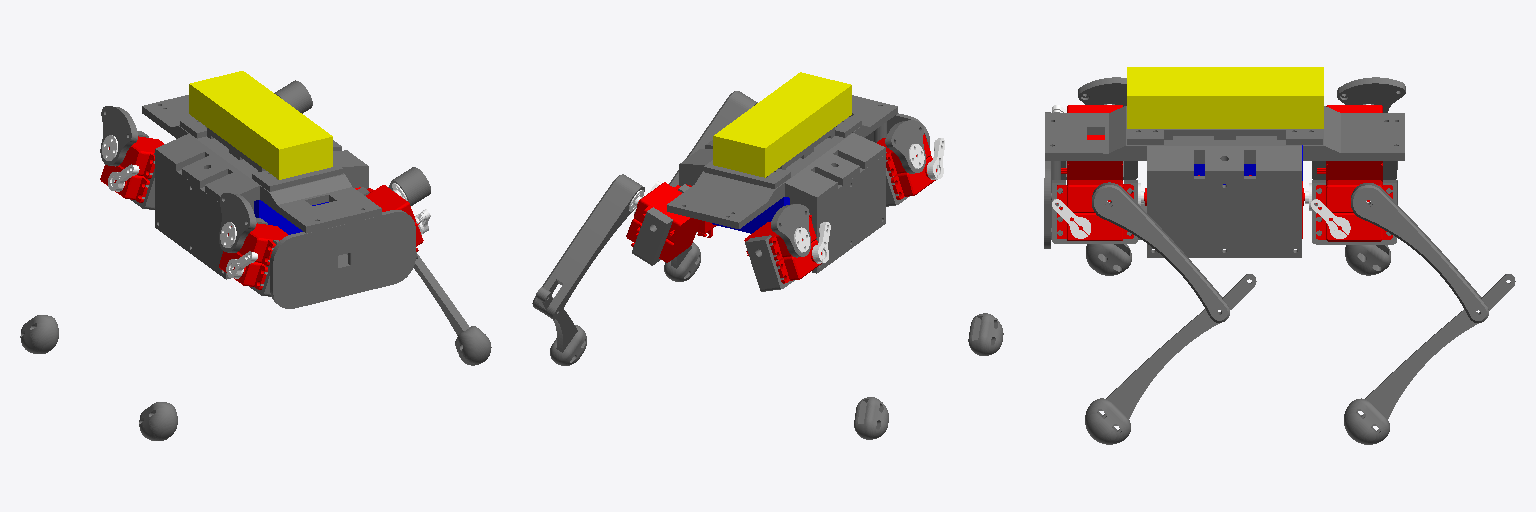
--- What the picture shows (computed from the rendered views, not written in the file) ---
The picture shows the robot from 3 angles, left to right: view 1: azimuth 30°, elevation 25°; view 2: azimuth 150°, elevation 25°; view 3: azimuth 270°, elevation 25°; orthographic projection.
Model robot_dog with 56 links and 55 joints (4 revolute, 16 continuous, 35 fixed), rooted at midsection-bottom, posed all joints at 0.
Visible links, largest first — view 1: front-face, battery, midsection-side-right, midsection-top, front-top, midsection-batteryplate, back-right-hip, front-right-hip, back-top, front-right-foot, back-right-foot, front-left-shin-shin (+9 smaller); view 2: battery, midsection-top, midsection-side-right, back-left-femur-femur, back-top, midsection-batteryplate, back-left-femur-servo, back-left-pelvis-pelvis, back-right-pelvis-pelvis, front-left-femur-femur, front-right-hip, back-right-hip (+11 smaller); view 3: battery, midsection-side-left, midsection-top, back-top, front-top, back-left-femur-femur, front-left-femur-femur, back-left-shin-shin, front-left-shin-shin, midsection-batteryplate, back-right-hip, front-left-foot (+17 smaller).
Boxes of the visible links, x1,y1,x2,y2 form: front-face: (270, 210, 415, 308); battery: (189, 71, 332, 179); midsection-side-right: (155, 156, 253, 279); midsection-top: (155, 133, 368, 202); front-top: (260, 173, 381, 233); midsection-batteryplate: (180, 117, 342, 191); back-right-hip: (100, 106, 137, 166); front-right-hip: (219, 193, 256, 252); back-top: (142, 95, 191, 138); front-right-foot: (139, 402, 177, 440); back-right-foot: (20, 315, 58, 353); front-left-shin-shin: (413, 252, 469, 335); battery: (713, 72, 851, 177); midsection-top: (679, 133, 885, 203); midsection-side-right: (790, 154, 885, 273); back-left-femur-femur: (532, 174, 644, 319); back-top: (667, 171, 784, 228); midsection-batteryplate: (704, 117, 861, 188); back-left-femur-servo: (634, 182, 700, 243); back-left-pelvis-pelvis: (632, 184, 689, 265); back-right-pelvis-pelvis: (745, 235, 794, 291); front-left-femur-femur: (669, 91, 757, 186); front-right-hip: (885, 120, 925, 173); back-right-hip: (771, 204, 810, 257); battery: (1127, 67, 1323, 128); midsection-side-left: (1147, 176, 1301, 257); midsection-top: (1147, 136, 1301, 178); back-top: (1303, 106, 1404, 160); front-top: (1045, 106, 1146, 160); back-left-femur-femur: (1351, 183, 1488, 322); front-left-femur-femur: (1092, 182, 1229, 322); back-left-shin-shin: (1356, 274, 1515, 432); front-left-shin-shin: (1097, 274, 1256, 432); midsection-batteryplate: (1127, 129, 1322, 144); back-right-hip: (1337, 77, 1405, 112); front-left-foot: (1085, 398, 1130, 444).
Bounding box of the posed robot: 0.3077 × 0.3326 × 0.216 m (x, y, z).
Meshes: 23 distinct files referenced, 47 mesh visuals loaded (17 Collada DAE); not drawn: 9 (reference not matched to a file when rendering).

robot.urdf — robot_dog:
<?xml version="1.0"?>
<robot name="robot_dog">


  <!--########## MIDSECTION OBJECTS ##########-->

  <!--##### midsection-bottom (base link) #####-->

  <link name="midsection-bottom">
    <visual>
      <geometry>
        <mesh filename="../meshes/midsection/ares_midsection-bottom_1.0.dae" scale="1 1 1"/>
      </geometry>

      <material name="Grey">
        <color rgba="0.5 0.5 0.5 1"/>
      </material>
    </visual>

    <collision>
      <geometry>
        <mesh filename="../meshes/midsection/ares_midsection-bottom_1.0.dae" scale="1 1 1"/>
      </geometry>
    </collision>

    <inertial>
      <mass value="0.01"/> <!-- Adjust mass if necessary -->
      <inertia ixx="0.001" ixy="0.0" ixz="0.0" iyy="0.001" iyz="0.0" izz="0.001"/>
      <origin xyz="0 0 0" rpy="0 0 0"/>
    </inertial>
  </link>

  <!--##### midsection-top #####-->

  <link name="midsection-top">
    <visual>
      <origin xyz="0 0 0" rpy="0 0 0"/>
      <geometry>
        <mesh filename="../meshes/midsection/athena_midsection-top_1.1.dae" scale="1 1 1"/>
      </geometry>

      <material name="Grey">
        <color rgba="0.5 0.5 0.5 1"/>
      </material>
    </visual>

    <collision>
      <origin xyz="0 0 0" rpy="0 0 0"/>
      <geometry>
        <mesh filename="../meshes/midsection/athena_midsection-top_1.1.dae" scale="1 1 1"/>
      </geometry>
    </collision>

    <inertial>
      <mass value="0.01"/>
      <inertia ixx="0.001" ixy="0.0" ixz="0.0" iyy="0.001" iyz="0.0" izz="0.001"/>
      <origin xyz="0 0 0" rpy="0 0 0"/>
    </inertial>
  </link>

  <!--##### midsection-connectorplate #####-->

  <link name="midsection-connectorplate">
    <visual>
      <origin xyz="0 0 0" rpy="0 0 0"/>
      <geometry>
        <mesh filename="../meshes/midsection/athena_midsection-connectorplate_1.2.dae" scale="1 1 1"/>
      </geometry>

      <material name="Grey">
        <color rgba="0.5 0.5 0.5 1"/>
      </material>
    </visual>

    <collision>
      <origin xyz="0 0 0" rpy="0 0 0"/>
      <geometry>
        <mesh filename="../meshes/midsection/athena_midsection-connectorplate_1.2.dae" scale="1 1 1"/>
      </geometry>
    </collision>

    <inertial>
      <mass value="0.01"/>
      <inertia ixx="0.001" ixy="0.0" ixz="0.0" iyy="0.001" iyz="0.0" izz="0.001"/>
      <origin xyz="0 0 0" rpy="0 0 0"/>
    </inertial>
  </link>

  <!--##### midsection-batteryplate #####-->

  <link name="midsection-batteryplate">
    <visual>
      <origin xyz="0 0 0" rpy="0 0 0"/>
      <geometry>
        <mesh filename="../meshes/midsection/ares_midsection-batteryplate_1.0.dae" scale="1 1 1"/>
      </geometry>

      <material name="Grey">
        <color rgba="0.5 0.5 0.5 1"/>
      </material>
    </visual>

    <collision>
      <origin xyz="0 0 0" rpy="0 0 0"/>
      <geometry>
        <mesh filename="../meshes/midsection/ares_midsection-batteryplate_1.0.dae" scale="1 1 1"/>
      </geometry>
    </collision>

    <inertial>
      <mass value="0.01"/>
      <inertia ixx="0.001" ixy="0.0" ixz="0.0" iyy="0.001" iyz="0.0" izz="0.001"/>
      <origin xyz="0 0 0" rpy="0 0 0"/>
    </inertial>
  </link>

  <!--##### midsection-side-left #####-->

  <link name="midsection-side-left">
    <visual>
      <origin xyz="0 0 0" rpy="0 0 0"/>
      <geometry>
        <mesh filename="../meshes/midsection/ares_midsection-side_1.0.dae" scale="1 1 1"/>
      </geometry>

      <material name="Grey">
        <color rgba="0.5 0.5 0.5 1"/>
      </material>
    </visual>

    <collision>
      <origin xyz="0 0 0" rpy="0 0 0"/>
      <geometry>
        <mesh filename="../meshes/midsection/ares_midsection-side_1.0.dae" scale="1 1 1"/>
      </geometry>
    </collision>

    <inertial>
      <mass value="0.01"/>
      <inertia ixx="0.001" ixy="0.0" ixz="0.0" iyy="0.001" iyz="0.0" izz="0.001"/>
      <origin xyz="0 0 0" rpy="0 0 0"/>
    </inertial>
  </link>

  <!--##### midsection-side-right #####-->

  <link name="midsection-side-right">
    <visual>
      <origin xyz="0 0 0" rpy="0 0 0"/>
      <geometry>
        <mesh filename="../meshes/midsection/ares_midsection-side_1.0.dae" scale="1 1 1"/>
      </geometry>

      <material name="Grey">
        <color rgba="0.5 0.5 0.5 1"/>
      </material>
    </visual>

    <collision>
      <origin xyz="0 0 0" rpy="0 0 0"/>
      <geometry>
        <mesh filename="../meshes/midsection/ares_midsection-side_1.0.dae" scale="1 1 1"/>
      </geometry>
    </collision>

    <inertial>
      <mass value="0.01"/>
      <inertia ixx="0.001" ixy="0.0" ixz="0.0" iyy="0.001" iyz="0.0" izz="0.001"/>
      <origin xyz="0 0 0" rpy="0 0 0"/>
    </inertial>
  </link>


  <!--########## MIDSECTION JOINTS ##########-->

  <!--##### midsection-bottom/top joint #####-->

  <joint name="midsection-bottom/top" type="fixed">
    <parent link="midsection-bottom"/>
    <child link="midsection-top"/>
    <origin xyz="0 0 0" rpy="0 0 0"/>
  </joint>

  <!--##### midsection-bottom/connectorplate joint #####-->

  <joint name="midsection-bottom/connectorplate" type="fixed">
    <parent link="midsection-bottom"/>
    <child link="midsection-connectorplate"/>
    <origin xyz="0.002 0.2 0.008" rpy="0 0 0"/>
  </joint>

  <!--##### midsection-top/batteryplate joint #####-->

  <joint name="midsection-top/batteryplate" type="fixed">
    <parent link="midsection-top"/>
    <child link="midsection-batteryplate"/>
    <origin xyz="-0.056 0.057 0.09855" rpy="0 0 0"/>
  </joint>

  <!--##### midsection-bottom/side-left joint #####-->

  <joint name="midsection-bottom/side-left" type="fixed">
    <parent link="midsection-bottom"/>
    <child link="midsection-side-left"/>
    <origin xyz="0 0 0" rpy="0 0 0"/>
  </joint>

  <!--##### midsection-bottom/side-right joint #####-->

  <joint name="midsection-bottom/side-right" type="fixed">
    <parent link="midsection-bottom"/>
    <child link="midsection-side-right"/>
    <origin xyz="-0.09705 0.1283 0" rpy="0 0 3.14"/>
  </joint>


  <!--########## FRONT OBJECTS ##########-->

  <!--##### front-face #####-->

  <link name="front-face">
    <visual>
      <origin xyz="0 0 0" rpy="0 0 0"/>
      <geometry>
          <mesh filename="../meshes/front/athena_front-face_1.1.dae" scale="1 1 1"/>
      </geometry>

      <material name="Grey">
          <color rgba="0.5 0.5 0.5 1"/>
      </material>
    </visual>

    <collision>
      <origin xyz="0 0 0" rpy="0 0 0"/>
      <geometry>
          <mesh filename="../meshes/front/athena_front-face_1.1.dae" scale="1 1 1"/>
      </geometry>
    </collision>

    <inertial>
      <mass value="0.01"/>
      <inertia ixx="0.001" ixy="0.0" ixz="0.0" iyy="0.001" iyz="0.0" izz="0.001"/>
      <origin xyz="0 0 0" rpy="0 0 0"/>
    </inertial>
  </link>

  <!--##### front-top #####-->

  <link name="front-top">
    <visual>
      <origin xyz="0 0 0" rpy="0 0 0"/>
      <geometry>
        <mesh filename="../meshes/front/athena_front-top_1.1.dae" scale="1 1 1"/>
      </geometry>

      <material name="Grey">
        <color rgba="0.5 0.5 0.5 1"/>
      </material>
    </visual>

    <collision>
      <origin xyz="0 0 0" rpy="0 0 0"/>
      <geometry>
          <mesh filename="../meshes/front/athena_front-top_1.1.dae" scale="1 1 1"/>
      </geometry>
    </collision>

    <inertial>
      <mass value="0.01"/>
      <inertia ixx="0.001" ixy="0.0" ixz="0.0" iyy="0.001" iyz="0.0" izz="0.001"/>
      <origin xyz="0 0 0" rpy="0 0 0"/>
    </inertial>
  </link>


  <!--########## FRONT JOINTS ##########-->

  <!--##### midsection-bottom/front-bottom joint #####-->

  <joint name="midsection-bottom/front-face" type="fixed">
    <parent link="midsection-bottom"/>
    <child link="front-face"/>
    <origin xyz="0.514 -0.043 -0.0794" rpy="0 0 3.14"/>
  </joint>

  <!--##### front-face/top joint #####-->

  <joint name="front-face/top" type="fixed">
    <parent link="front-face"/>
    <child link="front-top"/>
    <origin xyz="0.514 -0.042 0.07945" rpy="0 0 3.14"/>
  </joint>


  <!--########## BACK OBJECTS ##########-->

  <!--##### back-butt #####-->

  <link name="back-butt">
    <visual>
      <origin xyz="0 0 0" rpy="0 0 0"/>
      <geometry>
        <mesh filename="../meshes/back/athena_back-butt_1.2.dae" scale="1 1 1"/>
      </geometry>

      <material name="Grey">
          <color rgba="0.5 0.5 0.5 1"/>
      </material>
    </visual>

    <collision>
      <origin xyz="0 0 0" rpy="0 0 0"/>
      <geometry>
        <mesh filename="../meshes/back/athena_back-butt_1.2.dae" scale="1 1 1"/>
      </geometry>
    </collision>

    <inertial>
      <mass value="0.01"/>
      <inertia ixx="0.001" ixy="0.0" ixz="0.0" iyy="0.001" iyz="0.0" izz="0.001"/>
      <origin xyz="0 0 0" rpy="0 0 0"/>
    </inertial>
  </link>

  <!--##### back-top #####-->

  <link name="back-top">
    <visual>
      <origin xyz="0 0 0" rpy="0 0 0"/>
      <geometry>
        <mesh filename="../meshes/back/athena_back-top_1.2.dae" scale="1 1 1"/>
      </geometry>

      <material name="Grey">
          <color rgba="0.5 0.5 0.5 1"/>
      </material>
    </visual>

    <collision>
      <origin xyz="0 0 0" rpy="0 0 0"/>
      <geometry>
        <mesh filename="../meshes/back/athena_back-top_1.2.dae" scale="1 1 1"/>
      </geometry>
    </collision>

    <inertial>
      <mass value="0.01"/>
      <inertia ixx="0.001" ixy="0.0" ixz="0.0" iyy="0.001" iyz="0.0" izz="0.001"/>
      <origin xyz="0 0 0" rpy="0 0 0"/>
    </inertial>
  </link>


  <!--########## BACK JOINTS ##########-->

  <!--##### midsection-bottom/back-butt joint #####-->

  <joint name="midsection-bottom/back-butt" type="fixed">
    <parent link="midsection-bottom"/>
    <child link="back-butt"/>
    <origin xyz="-0.117 -0.394 -0.026" rpy="0 0 3.14"/>
  </joint>

  <!--##### back-butt/back-top joint #####-->

  <joint name="back-butt/back-top" type="fixed">
    <parent link="back-butt"/>
    <child link="back-top"/>
    <origin xyz="-0.0097 -1.118 -0.6045" rpy="0 0 3.14"/>
  </joint>


  <!--########## ELECTRONICS OBJECTS ##########-->

  <!--##### ai_module-mock #####-->

  <link name="ai_module-mock">
    <visual>
      <origin xyz="0 0 0" rpy="0 0 0"/>
      <geometry>
        <mesh filename="../meshes/electronics/ai_module-mock_1.0.dae" scale="1 1 1"/>
      </geometry>

      <material name="Blue">
        <color rgba="0 0 1 1"/>
      </material>
    </visual>

    <collision>
      <origin xyz="0 0 0" rpy="0 0 0"/>
      <geometry>
        <mesh filename="../meshes/electronics/ai_module-mock_1.0.dae" scale="1 1 1"/>
      </geometry>
    </collision>

    <inertial>
      <mass value="0.01"/>
      <inertia ixx="0.001" ixy="0.0" ixz="0.0" iyy="0.001" iyz="0.0" izz="0.001"/>
      <origin xyz="0 0 0" rpy="0 0 0"/>
    </inertial>
  </link>

  <!--##### battery ######-->

  <link name="battery">
    <visual>
      <origin xyz="0 0 0" rpy="0 0 0"/>
      <geometry>
        <mesh filename="../meshes/electronics/2s 6200mah LiPo battery.dae" scale="1 1 1"/>
      </geometry>

      <material name="Yellow">
        <color rgba="1 1 0 1"/>
      </material>
    </visual>

    <collision>
      <origin xyz="0 0 0" rpy="0 0 0"/>
      <geometry>
        <mesh filename="../meshes/electronics/2s 6200mah LiPo battery.dae" scale="1 1 1"/>
      </geometry>
    </collision>

    <inertial>
      <mass value="0.01"/>
      <inertia ixx="0.001" ixy="0.0" ixz="0.0" iyy="0.001" iyz="0.0" izz="0.001"/>
      <origin xyz="0 0 0" rpy="0 0 0"/>
    </inertial>
  </link>


  <!--########## ELECTRONICS JOINTS ##########-->

  <!--##### ai_module/midsection-connectorplate joint #####-->

  <joint name="ai_module/midsection-connectorplate" type="fixed">
    <parent link="midsection-connectorplate"/>
    <child link="ai_module-mock"/>
    <origin xyz="-0.00726 -0.074 0.0162" rpy="0 0 3.14"/>
  </joint>

  <!--##### battery/midsection-connectorplate joint #####-->

  <joint name="battery/midsection-batteryplate" type="fixed">
    <parent link="midsection-batteryplate"/>
    <child link="battery"/>
    <origin xyz="0.007 0.077 -0.0012" rpy="1.5708 0 0"/>
  </joint>


  <!--########## FRONT LEFT LEG OBJECTS ##########-->

  <!--##### front-left-pelvis-servo ######-->

  <link name="front-left-pelvis-servo">
    <visual>
      <origin xyz="0 0 0" rpy="0 0 0"/>
      <geometry>
        <mesh filename="../meshes/electronics/DS3218.dae" scale="1 1 1"/>
      </geometry>

      <material name="Red">
        <color rgba="1 0 0 1"/>
      </material>
    </visual>

    <collision>
      <origin xyz="0 0 0" rpy="0 0 0"/>
      <geometry>
        <mesh filename="../meshes/electronics/DS3218.dae" scale="1 1 1"/>
      </geometry>
    </collision>

    <inertial>
      <mass value="0.01"/>
      <inertia ixx="0.001" ixy="0.0" ixz="0.0" iyy="0.001" iyz="0.0" izz="0.001"/>
      <origin xyz="0 0 0" rpy="0 0 0"/>
    </inertial>
  </link>

  <!--##### front-left-pelvis-disc ######-->

  <link name="front-left-pelvis-disc">
    <visual>
      <origin xyz="0 0 0" rpy="0 0 0"/>
      <geometry>
        <mesh filename="../meshes/hardware/25T Disc Servo Horn.dae" scale="1 1 1"/>
      </geometry>

      <material name="White">
        <color rgba="1 1 1 1"/>
      </material>
    </visual>

    <collision>
      <origin xyz="0 0 0" rpy="0 0 0"/>
      <geometry>
        <mesh filename="../meshes/hardware/25T Disc Servo Horn.dae" scale="1 1 1"/>
      </geometry>
    </collision>

    <inertial>
      <mass value="0.01"/>
      <inertia ixx="0.001" ixy="0.0" ixz="0.0" iyy="0.001" iyz="0.0" izz="0.001"/>
      <origin xyz="0 0 0" rpy="0 0 0"/>
    </inertial>
  </link>

  <!--##### front-left-pelvis-pelvis #####-->

  <link name="front-left-pelvis-pelvis">
    <visual>
      <origin xyz="0 0 0" rpy="0 0 0"/>
      <geometry>
        <mesh filename="../meshes/pelvis/ares_pelvis-foreleft-hindright_1.0.dae" scale="1 1 1"/>
      </geometry>

      <material name="Grey">
        <color rgba="0.5 0.5 0.5 1"/>
      </material>
    </visual>

    <collision>
      <origin xyz="0 0 0" rpy="0 0 0"/>
      <geometry>
        <mesh filename="../meshes/pelvis/ares_pelvis-foreleft-hindright_1.0.dae" scale="1 1 1"/>
      </geometry>
    </collision>

    <inertial>
      <mass value="0.01"/>
      <inertia ixx="0.001" ixy="0.0" ixz="0.0" iyy="0.001" iyz="0.0" izz="0.001"/>
      <origin xyz="0 0 0" rpy="0 0 0"/>
    </inertial>
  </link>

  <!--##### front-left-shin-servo #####-->

  <link name="front-left-shin-servo">
    <visual>
      <origin xyz="0 0 0" rpy="0 0 0"/>
      <geometry>
        <mesh filename="../meshes/electronics/DS3218.dae" scale="1 1 1"/>
      </geometry>

      <material name="Red">
        <color rgba="1 0 0 1"/>
      </material>
    </visual>

    <collision>
      <origin xyz="0 0 0" rpy="0 0 0"/>
      <geometry>
        <mesh filename="../meshes/electronics/DS3218.dae" scale="1 1 1"/>
      </geometry>
    </collision>

    <inertial>
      <mass value="0.01"/>
      <inertia ixx="0.001" ixy="0.0" ixz="0.0" iyy="0.001" iyz="0.0" izz="0.001"/>
      <origin xyz="0 0 0" rpy="0 0 0"/>
    </inertial>
  </link>

  <!--##### front-left-shin-horn #####-->

  <link name="front-left-shin-horn">
    <visual>
      <origin xyz="0 0 0" rpy="0 0 0"/>
      <geometry>
        <mesh filename="../meshes/hardware/25T Servo Horn.dae" scale="1 1 1"/>
      </geometry>

      <material name="White">
        <color rgba="1 1 1 1"/>
      </material>
    </visual>

    <collision>
      <origin xyz="0 0 0" rpy="0 0 0"/>
      <geometry>
        <mesh filename="../meshes/hardware/25T Servo Horn.dae" scale="1 1 1"/>
      </geometry>
    </collision>

    <inertial>
      <mass value="0.01"/>
      <inertia ixx="0.001" ixy="0.0" ixz="0.0" iyy="0.001" iyz="0.0" izz="0.001"/>
      <origin xyz="0 0 0" rpy="0 0 0"/>
    </inertial>
  </link>

  <!--##### front-left-shin-shin #####-->

  <link name="front-left-shin-shin">
    <visual>
      <origin xyz="0 0 0" rpy="0 0 0"/>
      <geometry>
        <mesh filename="../meshes/tibias/ares_tibias-left_1.0.dae" scale="1 1 1"/>
      </geometry>

      <material name="Grey">
        <color rgba="0.5 0.5 0.5 1"/>
      </material>
    </visual>

    <collision>
      <origin xyz="0 0 0" rpy="0 0 0"/>
      <geometry>
        <mesh filename="../meshes/tibias/ares_tibias-left_1.0.dae" scale="1 1 1"/>
      </geometry>
    </collision>

    <inertial>
      <mass value="0.01"/>
      <inertia ixx="0.001" ixy="0.0" ixz="0.0" iyy="0.001" iyz="0.0" izz="0.001"/>
      <origin xyz="0 0 0" rpy="0 0 0"/>
    </inertial>
  </link>

  <!--##### front-left-foot #####-->

  <link name="front-left-foot">
    <visual>
      <origin xyz="0 0 0" rpy="0 0 0"/>
      <geometry>
        <mesh filename="../meshes/feet/ares_feet-foot_1.0.dae" scale="1 1 1"/>
      </geometry>

      <material name="Grey">
        <color rgba="0.5 0.5 0.5 1"/>
      </material>
    </visual>

    <collision>
      <origin xyz="0 0 0" rpy="0 0 0"/>
      <geometry>
        <mesh filename="../meshes/feet/ares_feet-foot_1.0.dae" scale="1 1 1"/>
      </geometry>
    </collision>

    <inertial>
      <mass value="0.01"/>
      <inertia ixx="0.001" ixy="0.0" ixz="0.0" iyy="0.001" iyz="0.0" izz="0.001"/>
      <origin xyz="0 0 0" rpy="0 0 0"/>
    </inertial>
  </link>

  <!--##### front-left-femur-servo #####-->

  <link name="front-left-femur-servo">
    <visual>
      <origin xyz="0 0 0" rpy="0 0 0"/>
      <geometry>
        <mesh filename="../meshes/electronics/DS3218.dae" scale="1 1 1"/>
      </geometry>

      <material name="Red">
        <color rgba="1 0 0 1"/>
      </material>
    </visual>

    <collision>
      <origin xyz="0 0 0" rpy="0 0 0"/>
      <geometry>
        <mesh filename="../meshes/electronics/DS3218.dae" scale="1 1 1"/>
      </geometry>
    </collision>

    <inertial>
      <mass value="0.01"/>
      <inertia ixx="0.001" ixy="0.0" ixz="0.0" iyy="0.001" iyz="0.0" izz="0.001"/>
      <origin xyz="0 0 0" rpy="0 0 0"/>
    </inertial>
  </link>

  <!--##### front-left-hip #####-->

  <link name="front-left-hip">
    <visual>
      <origin xyz="0 0 0" rpy="0 0 0"/>
      <geometry>
        <mesh filename="../meshes/pelvis_blades/ares_pelvis_blades-left_1.0.dae" scale="1 1 1"/>
      </geometry>

      <material name="Grey">
        <color rgba="0.5 0.5 0.5 1"/>
      </material>
    </visual>

    <collision>
      <origin xyz="0 0 0" rpy="0 0 0"/>
      <geometry>
        <mesh filename="../meshes/pelvis_blades/ares_pelvis_blades-left_1.0.dae" scale="1 1 1"/>
      </geometry>
    </collision>

    <inertial>
      <mass value="0.01"/>
      <inertia ixx="0.001" ixy="0.0" ixz="0.0" iyy="0.001" iyz="0.0" izz="0.001"/>
      <origin xyz="0 0 0" rpy="0 0 0"/>
    </inertial>
  </link>

  <!--##### front-left-femur-disc #####-->

  <link name="front-left-femur-disc">
    <visual>
      <origin xyz="0 0 0" rpy="0 0 0"/>
      <geometry>
        <mesh filename="../meshes/hardware/25T Disc Servo Horn.dae" scale="1 1 1"/>
      </geometry>

      <material name="White">
          <color rgba="1 1 1 1"/>
      </material>
    </visual>

    <collision>
      <origin xyz="0 0 0" rpy="0 0 0"/>
      <geometry>
        <mesh filename="../meshes/hardware/25T Disc Servo Horn.dae" scale="1 1 1"/>
      </geometry>
    </collision>

    <inertial>
      <mass value="0.01"/>
      <inertia ixx="0.001" ixy="0.0" ixz="0.0" iyy="0.001" iyz="0.0" izz="0.001"/>
      <origin xyz="0 0 0" rpy="0 0 0"/>
    </inertial>
  </link>

  <!--##### front-left-femur-femur #####-->

  <link name="front-left-femur-femur">
    <visual>
      <origin xyz="0 0 0" rpy="0 0 0"/>
      <geometry>
        <mesh filename="../meshes/femurs/ares_femurs-left_1.0.dae" scale="1 1 1"/>
      </geometry>

      <material name="Grey">
        <color rgba="0.5 0.5 0.5 1"/>
      </material>
    </visual>

    <collision>
      <origin xyz="0 0 0" rpy="0 0 0"/>
      <geometry>
        <mesh filename="../meshes/femurs/ares_femurs-left_1.0.dae" scale="1 1 1"/>
      </geometry>
    </collision>

    <inertial>
      <mass value="0.01"/>
      <inertia ixx="0.001" ixy="0.0" ixz="0.0" iyy="0.001" iyz="0.0" izz="0.001"/>
      <origin xyz="0 0 0" rpy="0 0 0"/>
    </inertial>
  </link>


  <!--########## TODO FRONT LEFT LEG JOINTS ##########-->

  <!--##### midsection-bottom/front-left-pelvis-servo joint #####-->

  <joint name="midsection-bottom/front-left-pelvis-servo" type="fixed">
    <parent link="midsection-bottom"/>
    <child link="front-left-pelvis-servo"/>
    <origin xyz="0.0005 0.05 0.0333" rpy="1.5708 3.14 0"/>
  </joint>

  <!--##### front-left-pelvis-servo/disc joint TODO (FL_hip) #####-->

  <joint name="FL_hip" type="revolute">
    <parent link="front-left-pelvis-servo"/>
    <child link="front-left-pelvis-disc"/>
    <origin xyz="0 -0.00995 0.04605" rpy="0 0 0.349066"/>
    <axis xyz="0 0 1"/>
    <limit lower="-0.349066" upper="0.349066" effort="5.0" velocity="9.52"/>
    <dynamics friction="0.1" damping="0.005"/>
  </joint>

  <!--##### front-left-pelvis-disc/pelvis joint #####-->

  <joint name="front-left-pelvis-disc/pelvis" type="fixed">
    <parent link="front-left-pelvis-disc"/>
    <child link="front-left-pelvis-pelvis"/>
    <origin xyz="0 0.0425 0.00413" rpy="-1.5708 0 3.14"/>
  </joint>

  <!--##### front-left-pelvis-pelvis/front-left-shin-servo joint #####-->

  <joint name="front-left-pelvis-pelvis/front-left-shin-servo" type="fixed">
    <parent link="front-left-pelvis-pelvis"/>
    <child link="front-left-shin-servo"/>
    <origin xyz="-0.0175 -0.0271 0.0231" rpy="-1.5708 1.5708 -1.5708"/>
  </joint>

  <!--##### front-left-shin-servo/horn joint #####-->

  <joint name="front-left-shin-servo/horn" type="continuous">
    <parent link="front-left-shin-servo"/>
    <child link="front-left-shin-horn"/>
    <origin xyz="0 -0.01 0.043" rpy="0 0 0.785398"/>
    <axis xyz="0 0 1"/>
  </joint>

  <!--##### front-left-pelvis-pelvis/front-left-femur-servo joint #####-->

  <joint name="front-left-pelvis-pelvis/front-left-femur-servo" type="fixed">
    <parent link="front-left-pelvis-pelvis"/>
    <child link="front-left-femur-servo"/>
    <origin xyz="-0.0175 -0.0271 0.0431" rpy="0 -1.5708 -3.14"/>
  </joint>

  <!--##### front-left-femur-servo/front-left-hip joint #####-->

  <joint name="front-left-femur-servo/front-left-hip" type="continuous">
    <parent link="front-left-femur-servo"/>
    <child link="front-left-hip"/>
    <origin xyz="0 -0.01 0.0409" rpy="0 -1.5708 3.14"/>
  </joint>

  <!--##### front-left-femur-servo/disc joint TODO (FL_upper) #####-->

  <joint name="FL_upper" type="continuous">
    <parent link="front-left-femur-servo"/>
    <child link="front-left-femur-disc"/>
    <origin xyz="0 -0.01 0.047" rpy="0 0 0"/>
    <axis xyz="0 0 1"/>
  </joint>

  <!--##### front-left-femur-disc/femur joint #####-->

  <joint name="front-left-femur-disc/femur" type="fixed">
    <parent link="front-left-femur-disc"/>
    <child link="front-left-femur-femur"/>
    <origin xyz="0 0 0" rpy="0 -1.5708 3.14"/>
  </joint>

  <!--##### front-left-femur-femur/front-left-shin-shin joint TODO (FL_lower) #####-->

  <joint name="FL_lower" type="continuous">
    <parent link="front-left-femur-femur"/>
    <child link="front-left-shin-shin"/>
    <origin xyz="0.0076 0.07777 -0.07777" rpy="0 0 0"/>
  </joint>

  <!--##### front-left-shin-shin/front-left-foot joint #####-->

  <joint name="front-left-shin-shin/front-left-foot" type="fixed">
    <parent link="front-left-shin-shin"/>
    <child link="front-left-foot"/>
    <origin xyz="-0.0367 -0.06 0.035" rpy="0 0 0"/>
  </joint>


  <!--########## FRONT RIGHT LEG OBJECTS ##########-->

  <!--##### front-right-pelvis-servo ######-->

  <link name="front-right-pelvis-servo">
    <visual>
      <origin xyz="0 0 0" rpy="0 0 0"/>
      <geometry>
        <mesh filename="../meshes/electronics/DS3218.dae" scale="1 1 1"/>
      </geometry>

      <material name="Red">
        <color rgba="1 0 0 1"/>
      </material>
    </visual>

    <collision>
      <origin xyz="0 0 0" rpy="0 0 0"/>
      <geometry>
        <mesh filename="../meshes/electronics/DS3218.dae" scale="1 1 1"/>
      </geometry>
    </collision>

    <inertial>
      <mass value="0.01"/>
      <inertia ixx="0.001" ixy="0.0" ixz="0.0" iyy="0.001" iyz="0.0" izz="0.001"/>
      <origin xyz="0 0 0" rpy="0 0 0"/>
    </inertial>
  </link>

  <!--##### front-right-pelvis-disc joint #####-->

  <link name="front-right-pelvis-disc">
    <visual>
      <origin xyz="0 0 0" rpy="0 0 0"/>
      <geometry>
        <mesh filename="../meshes/hardware/25T Disc Servo Horn.dae" scale="1 1 1"/>
      </geometry>

      <material name="White">
        <color rgba="1 1 1 1"/>
      </material>
    </visual>

    <collision>
      <origin xyz="0 0 0" rpy="0 0 0"/>
      <geometry>
        <mesh filename="../meshes/hardware/25T Disc Servo Horn.dae" scale="1 1 1"/>
      </geometry>
    </collision>

    <inertial>
      <mass value="0.01"/>
      <inertia ixx="0.001" ixy="0.0" ixz="0.0" iyy="0.001" iyz="0.0" izz="0.001"/>
      <origin xyz="0 0 0" rpy="0 0 0"/>
    </inertial>
  </link>

  <!--##### front-right-pelvis-pelvis ######-->

  <link name="front-right-pelvis-pelvis">
    <visual>
      <origin xyz="0 0 0" rpy="0 0 0"/>
      <geometry>
        <mesh filename="../meshes/pelvis/ares_pelvis-foreright-hindleft_1.0.dae" scale="1 1 1"/>
      </geometry>

      <material name="Grey">
        <color rgba="0.5 0.5 0.5 1"/>
      </material>
    </visual>

    <collision>
      <origin xyz="0 0 0" rpy="0 0 0"/>
      <geometry>
        <mesh filename="../meshes/pelvis/ares_pelvis-foreright-hindleft_1.0.dae" scale="1 1 1"/>
      </geometry>
    </collision>

    <inertial>
      <mass value="0.01"/>
      <inertia ixx="0.001" ixy="0.0" ixz="0.0" iyy="0.001" iyz="0.0" izz="0.001"/>
      <origin xyz="0 0 0" rpy="0 0 0"/>
    </inertial>
  </link>

  <!--##### front-right-shin-servo #####-->

  <link name="front-right-shin-servo">
    <visual>
      <origin xyz="0 0 0" rpy="0 0 0"/>
      <geometry>
        <mesh filename="../meshes/electronics/DS3218.dae" scale="1 1 1"/>
      </geometry>

      <material name="Red">
        <color rgba="1 0 0 1"/>
      </material>
    </visual>

    <collision>
      <origin xyz="0 0 0" rpy="0 0 0"/>
      <geometry>
        <mesh filename="../meshes/electronics/DS3218.dae" scale="1 1 1"/>
      </geometry>
    </collision>

    <inertial>
      <mass value="0.01"/>
      <inertia ixx="0.001" ixy="0.0" ixz="0.0" iyy="0.001" iyz="0.0" izz="0.001"/>
      <origin xyz="0 0 0" rpy="0 0 0"/>
    </inertial>
  </link>

  <!--##### front-right-shin-horn #####-->

  <link name="front-right-shin-horn">
    <visual>
      <origin xyz="0 0 0" rpy="0 0 0"/>
      <geometry>
        <mesh filename="../meshes/hardware/25T Servo Horn.dae" scale="1 1 1"/>
      </geometry>

      <material name="White">
          <color rgba="1 1 1 1"/>
      </material>
    </visual>

    <collision>
      <origin xyz="0 0 0" rpy="0 0 0"/>
      <geometry>
        <mesh filename="../meshes/hardware/25T Servo Horn.dae" scale="1 1 1"/>
      </geometry>
    </collision>

    <inertial>
      <mass value="0.01"/>
      <inertia ixx="0.001" ixy="0.0" ixz="0.0" iyy="0.001" iyz="0.0" izz="0.001"/>
      <origin xyz="0 0 0" rpy="0 0 0"/>
    </inertial>
  </link>

  <!--##### front-right-shin-shin #####-->

  <link name="front-right-shin-shin">
    <visual>
      <origin xyz="0 0 0" rpy="0 0 0"/>
      <geometry>
        <mesh filename="../meshes/tibias/ares_tibias-right_1.0.dae" scale="1 1 1"/>
      </geometry>

      <material name="Grey">
        <color rgba="0.5 0.5 0.5 1"/>
      </material>
    </visual>

    <collision>
      <origin xyz="0 0 0" rpy="0 0 0"/>
      <geometry>
        <mesh filename="../meshes/tibias/ares_tibias-right_1.0.dae" scale="1 1 1"/>
      </geometry>
    </collision>

    <inertial>
      <mass value="0.01"/>
      <inertia ixx="0.001" ixy="0.0" ixz="0.0" iyy="0.001" iyz="0.0" izz="0.001"/>
      <origin xyz="0 0 0" rpy="0 0 0"/>
    </inertial>
  </link>

  <!--##### front-right-foot #####-->

  <link name="front-right-foot">
    <visual>
      <origin xyz="0 0 0" rpy="0 0 0"/>
      <geometry>
        <mesh filename="../meshes/feet/ares_feet-foot_1.0.dae" scale="1 1 1"/>
      </geometry>

      <material name="Grey">
        <color rgba="0.5 0.5 0.5 1"/>
      </material>
    </visual>

    <collision>
      <origin xyz="0 0 0" rpy="0 0 0"/>
      <geometry>
        <mesh filename="../meshes/feet/ares_feet-foot_1.0.dae" scale="1 1 1"/>
      </geometry>
    </collision>

    <inertial>
      <mass value="0.01"/>
      <inertia ixx="0.001" ixy="0.0" ixz="0.0" iyy="0.001" iyz="0.0" izz="0.001"/>
      <origin xyz="0 0 0" rpy="0 0 0"/>
    </inertial>
  </link>

  <!--##### front-right-femur-servo ######-->

  <link name="front-right-femur-servo">
    <visual>
      <origin xyz="0 0 0" rpy="0 0 0"/>
      <geometry>
        <mesh filename="../meshes/electronics/DS3218.dae" scale="1 1 1"/>
      </geometry>

      <material name="Red">
        <color rgba="1 0 0 1"/>
      </material>
    </visual>

    <collision>
      <origin xyz="0 0 0" rpy="0 0 0"/>
      <geometry>
        <mesh filename="../meshes/electronics/DS3218.dae" scale="1 1 1"/>
      </geometry>
    </collision>

    <inertial>
      <mass value="0.01"/>
      <inertia ixx="0.001" ixy="0.0" ixz="0.0" iyy="0.001" iyz="0.0" izz="0.001"/>
      <origin xyz="0 0 0" rpy="0 0 0"/>
    </inertial>
  </link>

  <!--##### front-right-hip #####-->

  <link name="front-right-hip">
    <visual>
      <origin xyz="0 0 0" rpy="0 0 0"/>
      <geometry>
        <mesh filename="../meshes/pelvis_blades/ares_pelvis_blades-right_1.0.dae" scale="1 1 1"/>
      </geometry>

      <material name="Grey">
        <color rgba="0.5 0.5 0.5 1"/>
      </material>
    </visual>

    <collision>
      <origin xyz="0 0 0" rpy="0 0 0"/>
      <geometry>
        <mesh filename="../meshes/pelvis_blades/ares_pelvis_blades-right_1.0.dae" scale="1 1 1"/>
      </geometry>
    </collision>

    <inertial>
      <mass value="0.01"/>
      <inertia ixx="0.001" ixy="0.0" ixz="0.0" iyy="0.001" iyz="0.0" izz="0.001"/>
      <origin xyz="0 0 0" rpy="0 0 0"/>
    </inertial>
  </link>

  <!--##### front-right-femur-disc #####-->

  <link name="front-right-femur-disc">
    <visual>
      <origin xyz="0 0 0" rpy="0 0 0"/>
      <geometry>
        <mesh filename="../meshes/hardware/25T Disc Servo Horn.dae" scale="1 1 1"/>
      </geometry>

      <material name="White">
          <color rgba="1 1 1 1"/>
      </material>
    </visual>

    <collision>
      <origin xyz="0 0 0" rpy="0 0 0"/>
      <geometry>
        <mesh filename="../meshes/hardware/25T Disc Servo Horn.dae" scale="1 1 1"/>
      </geometry>
    </collision>

    <inertial>
      <mass value="0.01"/>
      <inertia ixx="0.001" ixy="0.0" ixz="0.0" iyy="0.001" iyz="0.0" izz="0.001"/>
      <origin xyz="0 0 0" rpy="0 0 0"/>
    </inertial>
  </link>

  <!--##### front-right-femur-femur #####-->

  <link name="front-right-femur-femur">
    <visual>
      <origin xyz="0 0 0" rpy="0 0 0"/>
      <geometry>
        <mesh filename="../meshes/femurs/ares_femurs-right_1.0.dae" scale="1 1 1"/>
      </geometry>

      <material name="Grey">
        <color rgba="0.5 0.5 0.5 1"/>
      </material>
    </visual>

    <collision>
      <origin xyz="0 0 0" rpy="0 0 0"/>
      <geometry>
        <mesh filename="../meshes/femurs/ares_femurs-right_1.0.dae" scale="1 1 1"/>
      </geometry>
    </collision>

    <inertial>
      <mass value="0.01"/>
      <inertia ixx="0.001" ixy="0.0" ixz="0.0" iyy="0.001" iyz="0.0" izz="0.001"/>
      <origin xyz="0 0 0" rpy="0 0 0"/>
    </inertial>
  </link>


  <!--########## TODO FRONT RIGHT LEG JOINTS ##########-->

  <!--##### midsection-bottom/front-right-pelvis-servo joint #####-->

  <joint name="midsection-bottom/front-right-pelvis-servo" type="fixed">
    <parent link="midsection-bottom"/>
    <child link="front-right-pelvis-servo"/>
    <origin xyz="-0.0975 0.05 0.0333" rpy="1.5708 3.14 0"/>
  </joint>

  <!--##### front-right-pelvis-servo/disc joint TODO (FR_hip) #####-->

  <joint name="FR_hip" type="revolute">
    <parent link="front-right-pelvis-servo"/>
    <child link="front-right-pelvis-disc"/>
    <origin xyz="0 -0.0106 0.04605" rpy="0 0 -0.349066"/>
    <axis xyz="0 0 1"/>
    <limit lower="-0.349066" upper="0.349066" effort="5.0" velocity="9.52"/>
    <dynamics friction="0.1" damping="0.005"/>
  </joint>

  <!--##### front-right-pelvis-disc/pelvis joint #####-->

  <joint name="front-right-pelvis-disc/pelvis" type="fixed">
    <parent link="front-right-pelvis-disc"/>
    <child link="front-right-pelvis-pelvis"/>
    <origin xyz="0 0.0425 0.00413" rpy="-1.5708 0 0"/>
  </joint>

  <!--##### front-right-pelvis-pelvis/front-right-shin-servo joint #####-->

  <joint name="front-right-pelvis-pelvis/front-right-shin-servo" type="fixed">
    <parent link="front-right-pelvis-pelvis"/>
    <child link="front-right-shin-servo"/>
    <origin xyz="-0.0175 -0.0271 -0.0231" rpy="1.5708 1.5708 1.5708"/>
  </joint>

  <!--##### front-right-shin-servo/horn joint #####-->

  <joint name="front-right-shin-servo/horn" type="continuous">
    <parent link="front-right-shin-servo"/>
    <child link="front-right-shin-horn"/>
    <origin xyz="0 -0.01 0.043" rpy="0 0 2.356198"/>
    <axis xyz="0 0 1"/>
  </joint>

  <!--##### front-right-pelvis-pelvis/front-right-femur-servo joint #####-->

  <joint name="front-right-pelvis-pelvis/front-right-femur-servo" type="fixed">
    <parent link="front-right-pelvis-pelvis"/>
    <child link="front-right-femur-servo"/>
    <origin xyz="-0.0175 -0.0271 -0.0431" rpy="0 -1.5708 -3.14"/>
  </joint>

  <!--##### front-right-femur-servo/front-right-hip joint #####-->

  <joint name="front-right-femur-servo/front-right-hip" type="continuous">
    <parent link="front-right-femur-servo"/>
    <child link="front-right-hip"/>
    <origin xyz="0 -0.01 0.0468" rpy="0 1.5708 3.14"/>
  </joint>

  <!--##### front-right-femur-servo/disc joint TODO (FR_upper) #####-->

  <joint name="FR_upper" type="continuous">
    <parent link="front-right-femur-servo"/>
    <child link="front-right-femur-disc"/>
    <origin xyz="0 -0.01 0.047" rpy="0 0 0"/>
    <axis xyz="0 0 1"/>
  </joint>

  <!--##### front-right-femur-disc/femur joint #####-->

  <joint name="front-right-femur-disc/femur" type="fixed">
    <parent link="front-right-femur-disc"/>
    <child link="front-right-femur-femur"/>
    <origin xyz="0 0 0" rpy="0 1.5708 3.14"/>
  </joint>

  <!--##### front-right-femur-femur/front-right-shin-shin joint TODO (FR_lower) #####-->

  <joint name="FR_lower" type="continuous">
    <parent link="front-right-femur-femur"/>
    <child link="front-right-shin-shin"/>
    <origin xyz="-0.0076 0.07777 -0.07777" rpy="0 0 0"/>
  </joint>

  <!--##### front-right-shin-shin/front-right-foot joint #####-->

    <joint name="front-right-shin-shin/front-right-foot" type="fixed">
    <parent link="front-right-shin-shin"/>
    <child link="front-right-foot"/>
    <origin xyz="-0.04258 -0.06 0.035" rpy="0 0 0"/>
  </joint>


  <!--########## BACK LEFT LEG OBJECTS ##########-->

  <!--##### back-left-pelvis-servo ######-->

  <link name="back-left-pelvis-servo">
    <visual>
      <origin xyz="0 0 0" rpy="0 0 0"/>
      <geometry>
        <mesh filename="../meshes/electronics/DS3218.dae" scale="1 1 1"/>
      </geometry>

      <material name="Red">
        <color rgba="1 0 0 1"/>
      </material>
    </visual>

    <collision>
      <origin xyz="0 0 0" rpy="0 0 0"/>
      <geometry>
        <mesh filename="../meshes/electronics/DS3218.dae" scale="1 1 1"/>
      </geometry>
    </collision>

    <inertial>
      <mass value="0.01"/>
      <inertia ixx="0.001" ixy="0.0" ixz="0.0" iyy="0.001" iyz="0.0" izz="0.001"/>
      <origin xyz="0 0 0" rpy="0 0 0"/>
    </inertial>
  </link>

  <!--##### back-left-pelvis-disc joint #####-->

  <link name="back-left-pelvis-disc">
    <visual>
      <origin xyz="0 0 0" rpy="0 0 0"/>
      <geometry>
        <mesh filename="../meshes/hardware/25T Disc Servo Horn.dae" scale="1 1 1"/>
      </geometry>

      <material name="White">
        <color rgba="1 1 1 1"/>
      </material>
    </visual>

    <collision>
      <origin xyz="0 0 0" rpy="0 0 0"/>
      <geometry>
        <mesh filename="../meshes/hardware/25T Disc Servo Horn.dae" scale="1 1 1"/>
      </geometry>
    </collision>

    <inertial>
      <mass value="0.01"/>
      <inertia ixx="0.001" ixy="0.0" ixz="0.0" iyy="0.001" iyz="0.0" izz="0.001"/>
      <origin xyz="0 0 0" rpy="0 0 0"/>
    </inertial>
  </link>

  <!--##### back-left-pelvis-pelvis ######-->

    <link name="back-left-pelvis-pelvis">
    <visual>
      <origin xyz="0 0 0" rpy="0 0 0"/>
      <geometry>
        <mesh filename="../meshes/pelvis/ares_pelvis-foreright-hindleft_1.0.dae" scale="1 1 1"/>
      </geometry>

      <material name="Grey">
        <color rgba="0.5 0.5 0.5 1"/>
      </material>
    </visual>

    <collision>
      <origin xyz="0 0 0" rpy="0 0 0"/>
      <geometry>
        <mesh filename="../meshes/pelvis/ares_pelvis-foreright-hindleft_1.0.dae" scale="1 1 1"/>
      </geometry>
    </collision>

    <inertial>
      <mass value="0.01"/>
      <inertia ixx="0.001" ixy="0.0" ixz="0.0" iyy="0.001" iyz="0.0" izz="0.001"/>
      <origin xyz="0 0 0" rpy="0 0 0"/>
    </inertial>
  </link>

  <!--##### back-left-shin-servo #####-->

  <link name="back-left-shin-servo">
    <visual>
      <origin xyz="0 0 0" rpy="0 0 0"/>
      <geometry>
        <mesh filename="../meshes/electronics/DS3218.dae" scale="1 1 1"/>
      </geometry>

      <material name="Red">
        <color rgba="1 0 0 1"/>
      </material>
    </visual>

    <collision>
      <origin xyz="0 0 0" rpy="0 0 0"/>
      <geometry>
        <mesh filename="../meshes/electronics/DS3218.dae" scale="1 1 1"/>
      </geometry>
    </collision>

    <inertial>
      <mass value="0.01"/>
      <inertia ixx="0.001" ixy="0.0" ixz="0.0" iyy="0.001" iyz="0.0" izz="0.001"/>
      <origin xyz="0 0 0" rpy="0 0 0"/>
    </inertial>
  </link>

  <!--##### back-left-shin-horn #####-->

  <link name="back-left-shin-horn">
    <visual>
      <origin xyz="0 0 0" rpy="0 0 0"/>
      <geometry>
        <mesh filename="../meshes/hardware/25T Servo Horn.dae" scale="1 1 1"/>
      </geometry>

      <material name="White">
          <color rgba="1 1 1 1"/>
      </material>
    </visual>

    <collision>
      <origin xyz="0 0 0" rpy="0 0 0"/>
      <geometry>
        <mesh filename="../meshes/hardware/25T Servo Horn.dae" scale="1 1 1"/>
      </geometry>
    </collision>

    <inertial>
      <mass value="0.01"/>
      <inertia ixx="0.001" ixy="0.0" ixz="0.0" iyy="0.001" iyz="0.0" izz="0.001"/>
      <origin xyz="0 0 0" rpy="0 0 0"/>
    </inertial>
  </link>

  <!--##### back-left-shin-shin #####-->

  <link name="back-left-shin-shin">
    <visual>
      <origin xyz="0 0 0" rpy="0 0 0"/>
      <geometry>
        <mesh filename="../meshes/tibias/ares_tibias-left_1.0.dae" scale="1 1 1"/>
      </geometry>

      <material name="Grey">
        <color rgba="0.5 0.5 0.5 1"/>
      </material>
    </visual>

    <collision>
      <origin xyz="0 0 0" rpy="0 0 0"/>
      <geometry>
        <mesh filename="../meshes/tibias/ares_tibias-left_1.0.dae" scale="1 1 1"/>
      </geometry>
    </collision>

    <inertial>
      <mass value="0.01"/>
      <inertia ixx="0.001" ixy="0.0" ixz="0.0" iyy="0.001" iyz="0.0" izz="0.001"/>
      <origin xyz="0 0 0" rpy="0 0 0"/>
    </inertial>
  </link>

  <!--##### back-left-foot #####-->

  <link name="back-left-foot">
    <visual>
      <origin xyz="0 0 0" rpy="0 0 0"/>
      <geometry>
        <mesh filename="../meshes/feet/ares_feet-foot_1.0.dae" scale="1 1 1"/>
      </geometry>

      <material name="Grey">
        <color rgba="0.5 0.5 0.5 1"/>
      </material>
    </visual>

    <collision>
      <origin xyz="0 0 0" rpy="0 0 0"/>
      <geometry>
        <mesh filename="../meshes/feet/ares_feet-foot_1.0.dae" scale="1 1 1"/>
      </geometry>
    </collision>

    <inertial>
      <mass value="0.01"/>
      <inertia ixx="0.001" ixy="0.0" ixz="0.0" iyy="0.001" iyz="0.0" izz="0.001"/>
      <origin xyz="0 0 0" rpy="0 0 0"/>
    </inertial>
  </link>

  <!--##### back-left-femur-servo #####-->

  <link name="back-left-femur-servo">
    <visual>
      <origin xyz="0 0 0" rpy="0 0 0"/>
      <geometry>
        <mesh filename="../meshes/electronics/DS3218.dae" scale="1 1 1"/>
      </geometry>

      <material name="Red">
        <color rgba="1 0 0 1"/>
      </material>
    </visual>

    <collision>
      <origin xyz="0 0 0" rpy="0 0 0"/>
      <geometry>
        <mesh filename="../meshes/electronics/DS3218.dae" scale="1 1 1"/>
      </geometry>
    </collision>

    <inertial>
      <mass value="0.01"/>
      <inertia ixx="0.001" ixy="0.0" ixz="0.0" iyy="0.001" iyz="0.0" izz="0.001"/>
      <origin xyz="0 0 0" rpy="0 0 0"/>
    </inertial>
  </link>

  <!--##### back-left-hip #####-->

  <link name="back-left-hip">
    <visual>
      <origin xyz="0 0 0" rpy="0 0 0"/>
      <geometry>
        <mesh filename="../meshes/pelvis_blades/ares_pelvis_blades-left_1.0.dae" scale="1 1 1"/>
      </geometry>

      <material name="Grey">
        <color rgba="0.5 0.5 0.5 1"/>
      </material>
    </visual>

    <collision>
      <origin xyz="0 0 0" rpy="0 0 0"/>
      <geometry>
        <mesh filename="../meshes/pelvis_blades/ares_pelvis_blades-left_1.0.dae" scale="1 1 1"/>
      </geometry>
    </collision>

    <inertial>
      <mass value="0.01"/>
      <inertia ixx="0.001" ixy="0.0" ixz="0.0" iyy="0.001" iyz="0.0" izz="0.001"/>
      <origin xyz="0 0 0" rpy="0 0 0"/>
    </inertial>
  </link>

  <!--##### back-left-femur-disc #####-->

  <link name="back-left-femur-disc">
    <visual>
      <origin xyz="0 0 0" rpy="0 0 0"/>
      <geometry>
        <mesh filename="../meshes/hardware/25T Disc Servo Horn.dae" scale="1 1 1"/>
      </geometry>

      <material name="White">
          <color rgba="1 1 1 1"/>
      </material>
    </visual>

    <collision>
      <origin xyz="0 0 0" rpy="0 0 0"/>
      <geometry>
        <mesh filename="../meshes/hardware/25T Disc Servo Horn.dae" scale="1 1 1"/>
      </geometry>
    </collision>

    <inertial>
      <mass value="0.01"/>
      <inertia ixx="0.001" ixy="0.0" ixz="0.0" iyy="0.001" iyz="0.0" izz="0.001"/>
      <origin xyz="0 0 0" rpy="0 0 0"/>
    </inertial>
  </link>

  <!--##### back-left-femur-femur #####-->

  <link name="back-left-femur-femur">
    <visual>
      <origin xyz="0 0 0" rpy="0 0 0"/>
      <geometry>
        <mesh filename="../meshes/femurs/ares_femurs-left_1.0.dae" scale="1 1 1"/>
      </geometry>

      <material name="Grey">
        <color rgba="0.5 0.5 0.5 1"/>
      </material>
    </visual>

    <collision>
      <origin xyz="0 0 0" rpy="0 0 0"/>
      <geometry>
        <mesh filename="../meshes/femurs/ares_femurs-left_1.0.dae" scale="1 1 1"/>
      </geometry>
    </collision>

    <inertial>
      <mass value="0.01"/>
      <inertia ixx="0.001" ixy="0.0" ixz="0.0" iyy="0.001" iyz="0.0" izz="0.001"/>
      <origin xyz="0 0 0" rpy="0 0 0"/>
    </inertial>
  </link>


  <!--########## TODO BACK LEFT LEG JOINTS ##########-->

  <!--##### midsection-bottom/back-left-pelvis-servo joint #####-->

  <joint name="midsection-bottom/back-left-pelvis-servo" type="fixed">
    <parent link="midsection-bottom"/>
    <child link="back-left-pelvis-servo"/>
    <origin xyz="0.0005 0.0785 0.0333" rpy="1.5708 3.14 3.14"/>
  </joint>

  <!--##### back-left-pelvis-servo/disc joint TODO (BL_hip) #####-->

  <joint name="BL_hip" type="revolute">
    <parent link="back-left-pelvis-servo"/>
    <child link="back-left-pelvis-disc"/>
    <origin xyz="0 -0.00995 0.04605" rpy="0 0 -0.349066"/>
    <axis xyz="0 0 1"/>
    <limit lower="-0.349066" upper="0.349066" effort="5.0" velocity="9.52"/>
    <dynamics friction="0.1" damping="0.005"/>
  </joint>

  <!--##### back-left-pelvis-disc/pelvis joint #####-->

  <joint name="back-left-pelvis-disc/pelvis" type="fixed">
    <parent link="back-left-pelvis-disc"/>
    <child link="back-left-pelvis-pelvis"/>
    <origin xyz="0 0.0425 0.00413" rpy="-1.5708 0 0"/>
  </joint>

  <!--##### back-left-pelvis-pelvis/back-left-shin-servo joint #####-->

  <joint name="back-left-pelvis-pelvis/back-left-shin-servo" type="fixed">
    <parent link="back-left-pelvis-pelvis"/>
    <child link="back-left-shin-servo"/>
    <origin xyz="-0.0175 -0.0271 -0.0231" rpy="1.5708 -1.5708 1.5708"/>
  </joint>

  <!--##### back-left-shin-servo/horn joint #####-->

  <joint name="back-left-shin-servo/horn" type="continuous">
    <parent link="back-left-shin-servo"/>
    <child link="back-left-shin-horn"/>
    <origin xyz="0 -0.01 0.043" rpy="0 0 0.785398"/>
    <axis xyz="0 0 1"/>
  </joint>

  <!--##### back-left-pelvis-pelvis/back-left-femur-servo joint #####-->

  <joint name="back-left-pelvis-pelvis/back-left-femur-servo" type="fixed">
    <parent link="back-left-pelvis-pelvis"/>
    <child link="back-left-femur-servo"/>
    <origin xyz="-0.0175 -0.0271 -0.0431" rpy="1.5708 1.5708 1.5708"/>
  </joint>

  <!--##### back-left-femur-servo/back-left-hip joint #####-->

  <joint name="back-left-femur-servo/back-left-hip" type="continuous">
    <parent link="back-left-femur-servo"/>
    <child link="back-left-hip"/>
    <origin xyz="0 -0.01 0.0409" rpy="0 -1.5708 3.14"/>
  </joint>

  <!--##### back-left-femur-servo/disc joint TODO (BL_upper) #####-->

  <joint name="BL_upper" type="continuous">
    <parent link="back-left-femur-servo"/>
    <child link="back-left-femur-disc"/>
    <origin xyz="0 -0.01 0.047" rpy="0 0 0"/>
    <axis xyz="0 0 1"/>
  </joint>

  <!--##### back-left-femur-disc/femur joint #####-->

  <joint name="back-left-femur-disc/femur" type="fixed">
    <parent link="back-left-femur-disc"/>
    <child link="back-left-femur-femur"/>
    <origin xyz="0 0 0" rpy="0 -1.5708 3.14"/>
  </joint>

  <!--##### back-left-femur-femur/back-left-shin-shin joint TODO (BL_lower) #####-->

  <joint name="BL_lower" type="continuous">
    <parent link="back-left-femur-femur"/>
    <child link="back-left-shin-shin"/>
    <origin xyz="0.0076 0.07777 -0.07777" rpy="0 0 0"/>
  </joint>

  <!--##### back-left-shin-shin/back-left-foot joint #####-->

  <joint name="back-left-shin-shin/back-left-foot" type="fixed">
    <parent link="back-left-shin-shin"/>
    <child link="back-left-foot"/>
    <origin xyz="-0.0367 -0.06 0.035" rpy="0 0 0"/>
  </joint>


  <!--########## BACK RIGHT LEG OBJECTS ##########-->

  <!--##### back-right-pelvis-servo ######-->

  <link name="back-right-pelvis-servo">
    <visual>
      <origin xyz="0 0 0" rpy="0 0 0"/>
      <geometry>
        <mesh filename="../meshes/electronics/DS3218.dae" scale="1 1 1"/>
      </geometry>

      <material name="Red">
        <color rgba="1 0 0 1"/>
      </material>
    </visual>

    <collision>
      <origin xyz="0 0 0" rpy="0 0 0"/>
      <geometry>
        <mesh filename="../meshes/electronics/DS3218.dae" scale="1 1 1"/>
      </geometry>
    </collision>

    <inertial>
      <mass value="0.01"/>
      <inertia ixx="0.001" ixy="0.0" ixz="0.0" iyy="0.001" iyz="0.0" izz="0.001"/>
      <origin xyz="0 0 0" rpy="0 0 0"/>
    </inertial>
  </link>

  <!--##### back-right-pelvis-disc joint #####-->

  <link name="back-right-pelvis-disc">
    <visual>
      <origin xyz="0 0 0" rpy="0 0 0"/>
      <geometry>
        <mesh filename="../meshes/hardware/25T Disc Servo Horn.dae" scale="1 1 1"/>
      </geometry>

      <material name="White">
        <color rgba="1 1 1 1"/>
      </material>
    </visual>

    <collision>
      <origin xyz="0 0 0" rpy="0 0 0"/>
      <geometry>
        <mesh filename="../meshes/hardware/25T Disc Servo Horn.dae" scale="1 1 1"/>
      </geometry>
    </collision>

    <inertial>
      <mass value="0.01"/>
      <inertia ixx="0.001" ixy="0.0" ixz="0.0" iyy="0.001" iyz="0.0" izz="0.001"/>
      <origin xyz="0 0 0" rpy="0 0 0"/>
    </inertial>
  </link>

  <!--##### back-right-pelvis-pelvis #####-->

  <link name="back-right-pelvis-pelvis">
    <visual>
      <origin xyz="0 0 0" rpy="0 0 0"/>
      <geometry>
        <mesh filename="../meshes/pelvis/ares_pelvis-foreleft-hindright_1.0.dae" scale="1 1 1"/>
      </geometry>

      <material name="Grey">
        <color rgba="0.5 0.5 0.5 1"/>
      </material>
    </visual>

    <collision>
      <origin xyz="0 0 0" rpy="0 0 0"/>
      <geometry>
        <mesh filename="../meshes/pelvis/ares_pelvis-foreleft-hindright_1.0.dae" scale="1 1 1"/>
      </geometry>
    </collision>

    <inertial>
      <mass value="0.01"/>
      <inertia ixx="0.001" ixy="0.0" ixz="0.0" iyy="0.001" iyz="0.0" izz="0.001"/>
      <origin xyz="0 0 0" rpy="0 0 0"/>
    </inertial>
  </link>

  <!--##### back-right-shin-servo #####-->

  <link name="back-right-shin-servo">
    <visual>
      <origin xyz="0 0 0" rpy="0 0 0"/>
      <geometry>
        <mesh filename="../meshes/electronics/DS3218.dae" scale="1 1 1"/>
      </geometry>

      <material name="Red">
        <color rgba="1 0 0 1"/>
      </material>
    </visual>

    <collision>
      <origin xyz="0 0 0" rpy="0 0 0"/>
      <geometry>
        <mesh filename="../meshes/electronics/DS3218.dae" scale="1 1 1"/>
      </geometry>
    </collision>

    <inertial>
      <mass value="0.01"/>
      <inertia ixx="0.001" ixy="0.0" ixz="0.0" iyy="0.001" iyz="0.0" izz="0.001"/>
      <origin xyz="0 0 0" rpy="0 0 0"/>
    </inertial>
  </link>

  <!--##### back-right-shin-horn #####-->

  <link name="back-right-shin-horn">
    <visual>
      <origin xyz="0 0 0" rpy="0 0 0"/>
      <geometry>
        <mesh filename="../meshes/hardware/25T Servo Horn.dae" scale="1 1 1"/>
      </geometry>

      <material name="White">
          <color rgba="1 1 1 1"/>
      </material>
    </visual>

    <collision>
      <origin xyz="0 0 0" rpy="0 0 0"/>
      <geometry>
        <mesh filename="../meshes/hardware/25T Servo Horn.dae" scale="1 1 1"/>
      </geometry>
    </collision>

    <inertial>
      <mass value="0.01"/>
      <inertia ixx="0.001" ixy="0.0" ixz="0.0" iyy="0.001" iyz="0.0" izz="0.001"/>
      <origin xyz="0 0 0" rpy="0 0 0"/>
    </inertial>
  </link>

  <!--##### back-right-shin-shin #####-->

  <link name="back-right-shin-shin">
    <visual>
      <origin xyz="0 0 0" rpy="0 0 0"/>
      <geometry>
        <mesh filename="../meshes/tibias/ares_tibias-right_1.0.dae" scale="1 1 1"/>
      </geometry>

      <material name="Grey">
        <color rgba="0.5 0.5 0.5 1"/>
      </material>
    </visual>

    <collision>
      <origin xyz="0 0 0" rpy="0 0 0"/>
      <geometry>
        <mesh filename="../meshes/tibias/ares_tibias-right_1.0.dae" scale="1 1 1"/>
      </geometry>
    </collision>

    <inertial>
      <mass value="0.01"/>
      <inertia ixx="0.001" ixy="0.0" ixz="0.0" iyy="0.001" iyz="0.0" izz="0.001"/>
      <origin xyz="0 0 0" rpy="0 0 0"/>
    </inertial>
  </link>

  <!--##### back-right-foot #####-->

  <link name="back-right-foot">
    <visual>
      <origin xyz="0 0 0" rpy="0 0 0"/>
      <geometry>
        <mesh filename="../meshes/feet/ares_feet-foot_1.0.dae" scale="1 1 1"/>
      </geometry>

      <material name="Grey">
        <color rgba="0.5 0.5 0.5 1"/>
      </material>
    </visual>

    <collision>
      <origin xyz="0 0 0" rpy="0 0 0"/>
      <geometry>
        <mesh filename="../meshes/feet/ares_feet-foot_1.0.dae" scale="1 1 1"/>
      </geometry>
    </collision>

    <inertial>
      <mass value="0.01"/>
      <inertia ixx="0.001" ixy="0.0" ixz="0.0" iyy="0.001" iyz="0.0" izz="0.001"/>
      <origin xyz="0 0 0" rpy="0 0 0"/>
    </inertial>
  </link>

  <!--##### back-right-femur-servo ######-->

  <link name="back-right-femur-servo">
    <visual>
      <origin xyz="0 0 0" rpy="0 0 0"/>
      <geometry>
        <mesh filename="../meshes/electronics/DS3218.dae" scale="1 1 1"/>
      </geometry>

      <material name="Red">
        <color rgba="1 0 0 1"/>
      </material>
    </visual>

    <collision>
      <origin xyz="0 0 0" rpy="0 0 0"/>
      <geometry>
        <mesh filename="../meshes/electronics/DS3218.dae" scale="1 1 1"/>
      </geometry>
    </collision>

    <inertial>
      <mass value="0.01"/>
      <inertia ixx="0.001" ixy="0.0" ixz="0.0" iyy="0.001" iyz="0.0" izz="0.001"/>
      <origin xyz="0 0 0" rpy="0 0 0"/>
    </inertial>
  </link>

  <!--##### back-right-hip #####-->

  <link name="back-right-hip">
    <visual>
      <origin xyz="0 0 0" rpy="0 0 0"/>
      <geometry>
        <mesh filename="../meshes/pelvis_blades/ares_pelvis_blades-right_1.0.dae" scale="1 1 1"/>
      </geometry>

      <material name="Grey">
        <color rgba="0.5 0.5 0.5 1"/>
      </material>
    </visual>

    <collision>
      <origin xyz="0 0 0" rpy="0 0 0"/>
      <geometry>
        <mesh filename="../meshes/pelvis_blades/ares_pelvis_blades-right_1.0.dae" scale="1 1 1"/>
      </geometry>
    </collision>

    <inertial>
      <mass value="0.01"/>
      <inertia ixx="0.001" ixy="0.0" ixz="0.0" iyy="0.001" iyz="0.0" izz="0.001"/>
      <origin xyz="0 0 0" rpy="0 0 0"/>
    </inertial>
  </link>

  <!--##### back-right-femur-disc #####-->

  <link name="back-right-femur-disc">
    <visual>
      <origin xyz="0 0 0" rpy="0 0 0"/>
      <geometry>
        <mesh filename="../meshes/hardware/25T Disc Servo Horn.dae" scale="1 1 1"/>
      </geometry>

      <material name="White">
          <color rgba="1 1 1 1"/>
      </material>
    </visual>

    <collision>
      <origin xyz="0 0 0" rpy="0 0 0"/>
      <geometry>
        <mesh filename="../meshes/hardware/25T Disc Servo Horn.dae" scale="1 1 1"/>
      </geometry>
    </collision>

    <inertial>
      <mass value="0.01"/>
      <inertia ixx="0.001" ixy="0.0" ixz="0.0" iyy="0.001" iyz="0.0" izz="0.001"/>
      <origin xyz="0 0 0" rpy="0 0 0"/>
    </inertial>
  </link>

  <!--##### back-right-femur-femur #####-->

  <link name="back-right-femur-femur">
    <visual>
      <origin xyz="0 0 0" rpy="0 0 0"/>
      <geometry>
        <mesh filename="../meshes/femurs/ares_femurs-right_1.0.dae" scale="1 1 1"/>
      </geometry>

      <material name="Grey">
        <color rgba="0.5 0.5 0.5 1"/>
      </material>
    </visual>

    <collision>
      <origin xyz="0 0 0" rpy="0 0 0"/>
      <geometry>
        <mesh filename="../meshes/femurs/ares_femurs-right_1.0.dae" scale="1 1 1"/>
      </geometry>
    </collision>

    <inertial>
      <mass value="0.01"/>
      <inertia ixx="0.001" ixy="0.0" ixz="0.0" iyy="0.001" iyz="0.0" izz="0.001"/>
      <origin xyz="0 0 0" rpy="0 0 0"/>
    </inertial>
  </link>


  <!--########## TODO BACK RIGHT LEG JOINTS ##########-->

  <!--##### midsection-bottom/back-right-pelvis-servo joint #####-->

  <joint name="midsection-bottom/back-right-pelvis-servo" type="fixed">
    <parent link="midsection-bottom"/>
    <child link="back-right-pelvis-servo"/>
    <origin xyz="-0.0975 0.0785 0.0333" rpy="1.5708 3.14 3.14"/>
  </joint>

  <!--##### back-right-pelvis-servo/disc joint TODO (BR_hip) #####-->

  <joint name="BR_hip" type="revolute">
    <parent link="back-right-pelvis-servo"/>
    <child link="back-right-pelvis-disc"/>
    <origin xyz="0 -0.0106 0.04605" rpy="0 0 0.349066"/>
    <axis xyz="0 0 1"/>
    <limit lower="-0.349066" upper="0.349066" effort="5.0" velocity="9.52"/>
    <dynamics friction="0.1" damping="0.005"/>
  </joint>

  <!--##### back-right-pelvis-disc/pelvis joint #####-->

  <joint name="back-right-pelvis-disc/pelvis" type="fixed">
    <parent link="back-right-pelvis-disc"/>
    <child link="back-right-pelvis-pelvis"/>
    <origin xyz="0 0.0425 0.00413" rpy="-1.5708 0 3.14"/>
  </joint>

    <!--##### back-right-pelvis-pelvis/back-right-shin-servo joint #####-->

  <joint name="back-right-pelvis-pelvis/back-right-shin-servo" type="fixed">
    <parent link="back-right-pelvis-pelvis"/>
    <child link="back-right-shin-servo"/>
    <origin xyz="-0.0175 -0.0271 0.0231" rpy="1.5708 -1.5708 1.5708"/>
  </joint>

  <!--##### back-right-shin-servo/horn joint #####-->

  <joint name="back-right-shin-servo/horn" type="continuous">
    <parent link="back-right-shin-servo"/>
    <child link="back-right-shin-horn"/>
    <origin xyz="0 -0.01 0.043" rpy="0 0 2.356198"/>
    <axis xyz="0 0 1"/>
  </joint>

  <!--##### back-right-pelvis-pelvis/back-right-femur-servo joint #####-->

  <joint name="back-right-pelvis-pelvis/back-right-femur-servo" type="fixed">
    <parent link="back-right-pelvis-pelvis"/>
    <child link="back-right-femur-servo"/>
    <origin xyz="-0.0175 -0.0271 0.0431" rpy="1.5708 1.5708 1.5708"/>
  </joint>

  <!--##### back-right-femur-servo/back-right-hip joint #####-->

  <joint name="back-right-femur-servo/back-right-hip" type="continuous">
    <parent link="back-right-femur-servo"/>
    <child link="back-right-hip"/>
    <origin xyz="0 -0.01 0.0468" rpy="0 1.5708 3.14"/>
  </joint>

  <!--##### back-right-femur-servo/disc joint TODO (BR_upper) #####-->

  <joint name="BR_upper" type="continuous">
    <parent link="back-right-femur-servo"/>
    <child link="back-right-femur-disc"/>
    <origin xyz="0 -0.01 0.047" rpy="0 0 0"/>
    <axis xyz="0 0 1"/>
  </joint>

  <!--##### back-right-femur-disc/femur joint #####-->

  <joint name="back-right-femur-disc/femur" type="fixed">
    <parent link="back-right-femur-disc"/>
    <child link="back-right-femur-femur"/>
    <origin xyz="0 0 0" rpy="0 1.5708 3.14"/>
  </joint>

  <!--##### back-right-femur-femur/back-right-shin-shin joint TODO (BR_lower) #####-->

  <joint name="BR_lower" type="continuous">
    <parent link="back-right-femur-femur"/>
    <child link="back-right-shin-shin"/>
    <origin xyz="-0.0076 0.07777 -0.07777" rpy="0 0 0"/>
  </joint>

  <!--##### back-right-shin-shin/back-right-foot joint #####-->

    <joint name="back-right-shin-shin/back-right-foot" type="fixed">
    <parent link="back-right-shin-shin"/>
    <child link="back-right-foot"/>
    <origin xyz="-0.04258 -0.06 0.035" rpy="0 0 0"/>
  </joint>
</robot>
